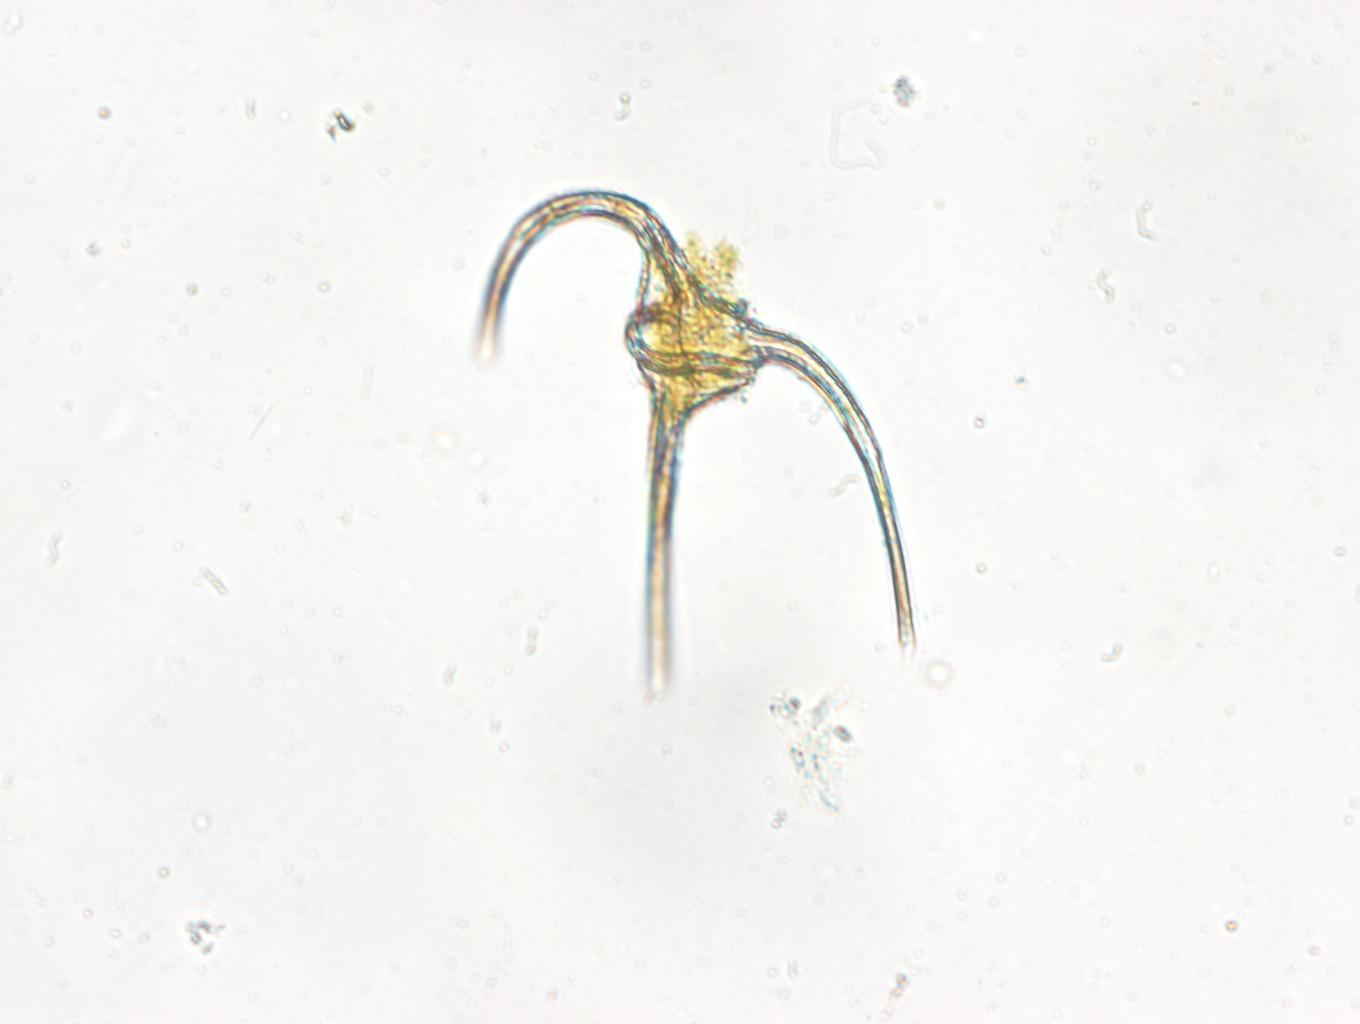ceratium trichoceros: (472, 179, 922, 717)
